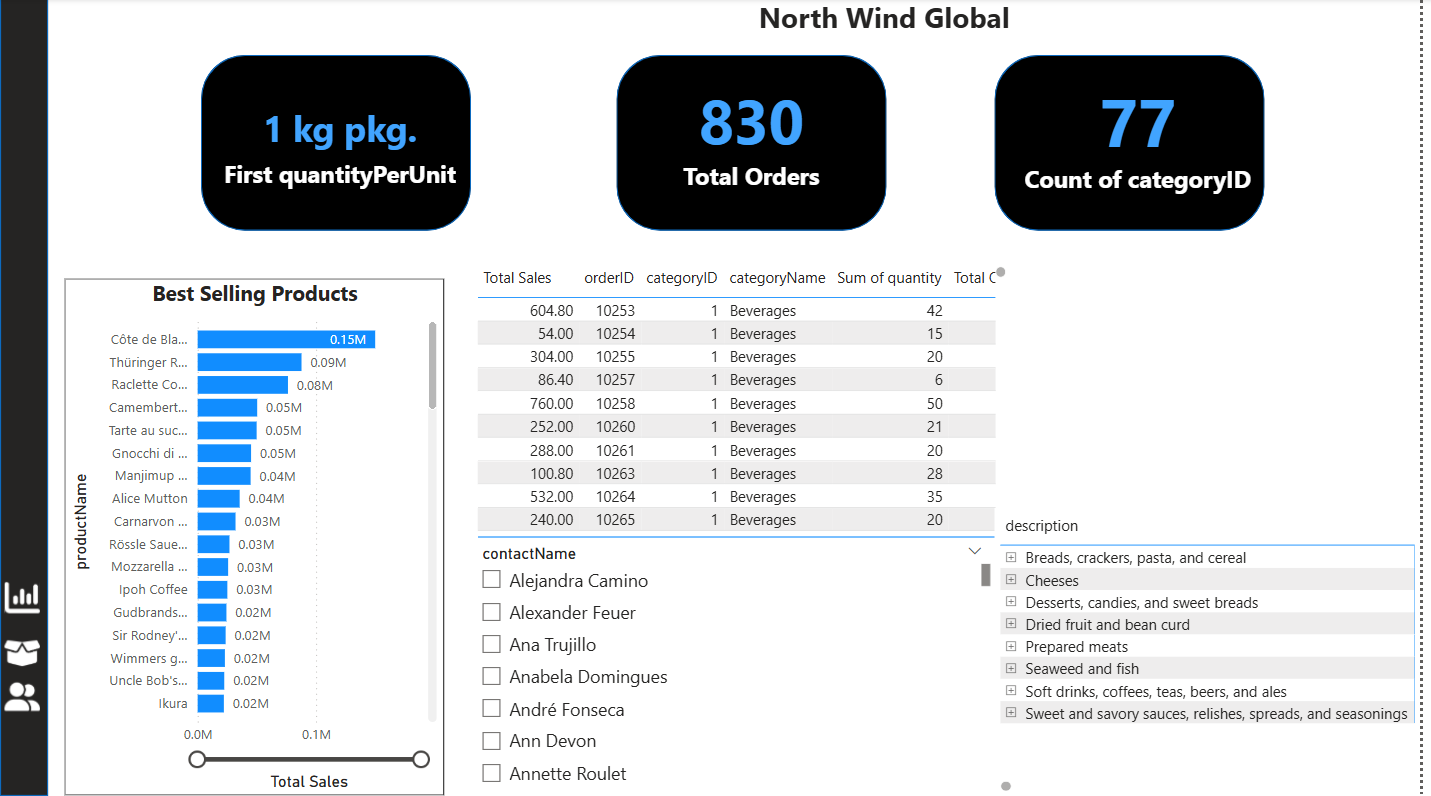

Layout of this report page (visuals, bound fields, positions):
{"tool":"powerbi","page":{"name":"Product Customer Insight","canvas":[1280,720],"ordinal":1},"visuals":[{"type":"shape","box":[0,0,43.3,720],"z":0},{"type":"barChart","title":"Best Selling Products","fields":{"Category":["products.productName"],"Y":["order details.Total Sales"]},"box":[58.3,253.3,341.7,466.7],"z":1000},{"type":"tableEx","fields":{"Values":["order details.Total Sales","orders.orderID","categories.categoryID","categories.categoryName","order details.quantity","order details.Total Orders"]},"box":[425,236.7,486.7,283.3],"z":2000},{"type":"slicer","fields":{"Values":["customers.contactName"]},"box":[421.4,487.1,475.7,231.4],"z":3000},{"type":"textbox","title":"North Wind Global","box":[640,0,315,76.7],"z":4000},{"type":"shape","box":[181.7,51.7,243.3,158.3],"z":5000},{"type":"shape","box":[896.7,51.7,243.3,158.3],"z":6000},{"type":"shape","box":[555,51.7,243.3,158.3],"z":7000},{"type":"card","fields":{"Values":["products.quantityPerUnit"]},"box":[188.3,93.3,231.7,93.3],"z":9000},{"type":"pivotTable","fields":{"Rows":["categories.description","categories.categoryID"],"Columns":["categories.categoryName"]},"box":[896.7,460,383.3,260],"z":10000},{"type":"card","fields":{"Values":["order details.Total Orders"]},"box":[548.3,68.3,256.7,141.7],"z":11000},{"type":"card","fields":{"Values":["products.categoryID"]},"box":[890,61.7,256.7,141.7],"z":12000},{"type":"actionButton","box":[0,570,100,40],"z":12001},{"type":"actionButton","box":[0,610,100,40],"z":12002},{"type":"actionButton","box":[0,520,100,40],"z":12003}]}

Visuals, with their boxes on the page's 1280x720 design canvas (x1, y1, x2, y2). These are canvas units, not pixel positions in the 1431x796 screenshot, which may show the page scaled, cropped or inside an application window:
shape: rect(0, 0, 43, 720)
"Best Selling Products" barChart: rect(58, 253, 400, 720)
tableEx - order details.Total Sales x orders.orderID: rect(425, 237, 912, 520)
slicer - customers.contactName: rect(421, 487, 897, 718)
"North Wind Global" textbox: rect(640, 0, 955, 77)
shape: rect(182, 52, 425, 210)
shape: rect(897, 52, 1140, 210)
shape: rect(555, 52, 798, 210)
card - products.quantityPerUnit: rect(188, 93, 420, 187)
pivotTable - categories.description x categories.categoryID: rect(897, 460, 1280, 720)
card - order details.Total Orders: rect(548, 68, 805, 210)
card - products.categoryID: rect(890, 62, 1147, 203)
actionButton: rect(0, 570, 100, 610)
actionButton: rect(0, 610, 100, 650)
actionButton: rect(0, 520, 100, 560)
